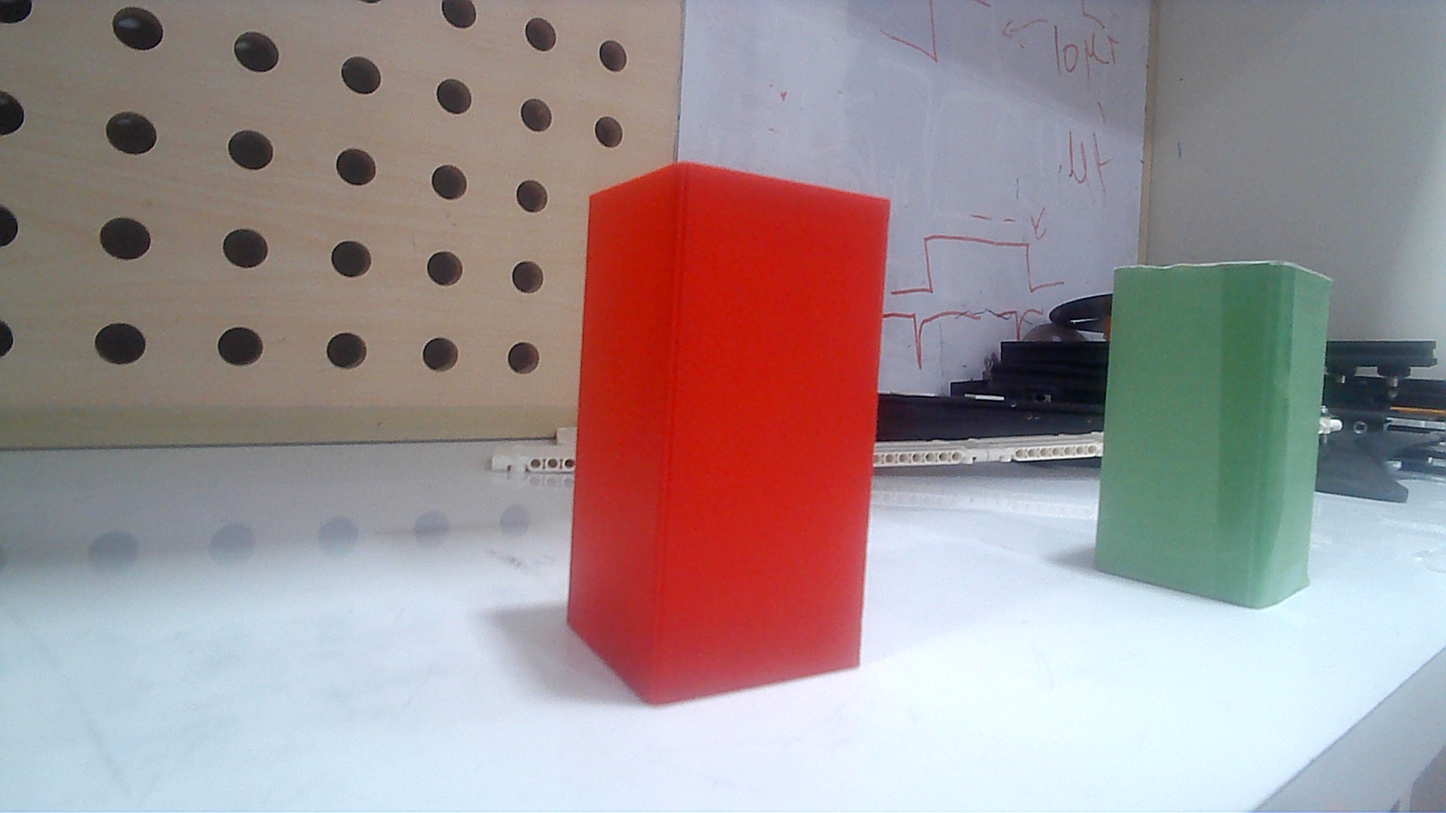red: (557, 153, 902, 732)
